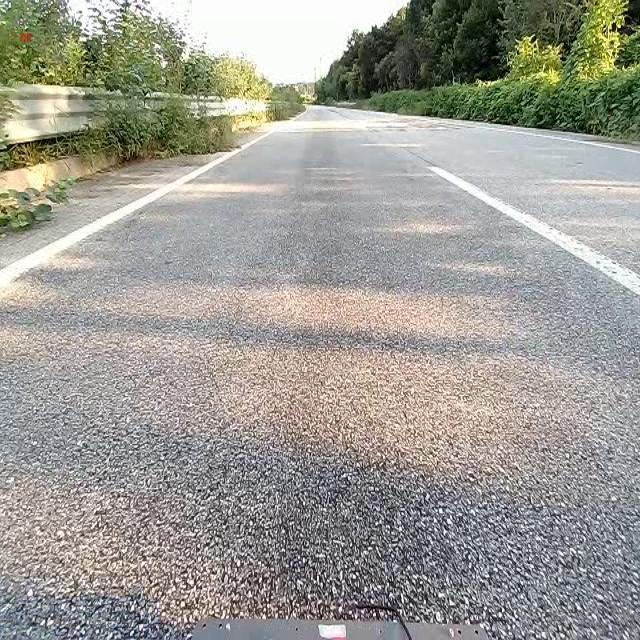Lane: (0, 123, 271, 296), (0, 130, 273, 293), (424, 157, 640, 303), (427, 166, 639, 296)
